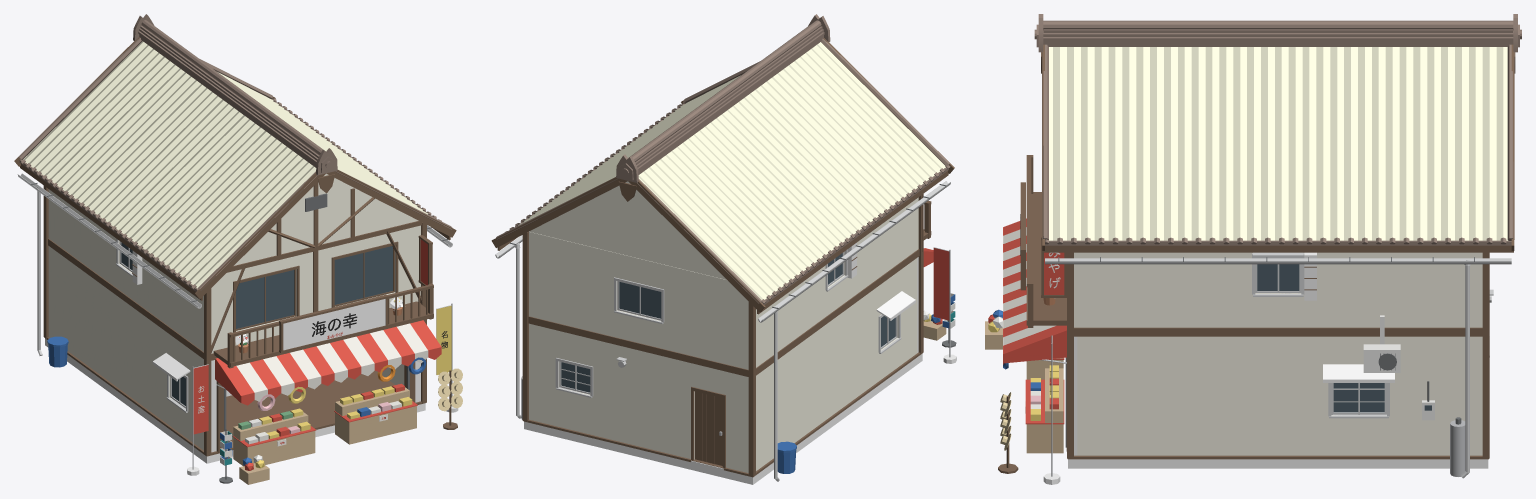
The model's file is shop_souvenir.glb.
3 renders of one model, left to right at view 1: azimuth 30°, elevation 25°; view 2: azimuth 150°, elevation 25°; view 3: azimuth 270°, elevation 25°, orthographic. The views are drawn at different scales.
Parts seen in each view (by area): view 1: shop_souvenir_body; view 2: shop_souvenir_body; view 3: shop_souvenir_body.
Boxes of the visible parts, left/top/right/bottom form: shop_souvenir_body: left=14, top=14, right=462, bottom=484; shop_souvenir_body: left=491, top=14, right=956, bottom=484; shop_souvenir_body: left=985, top=14, right=1521, bottom=484.
Size of what is drawn, in the model's own units: 8.76 by 9.18 by 11.63.
